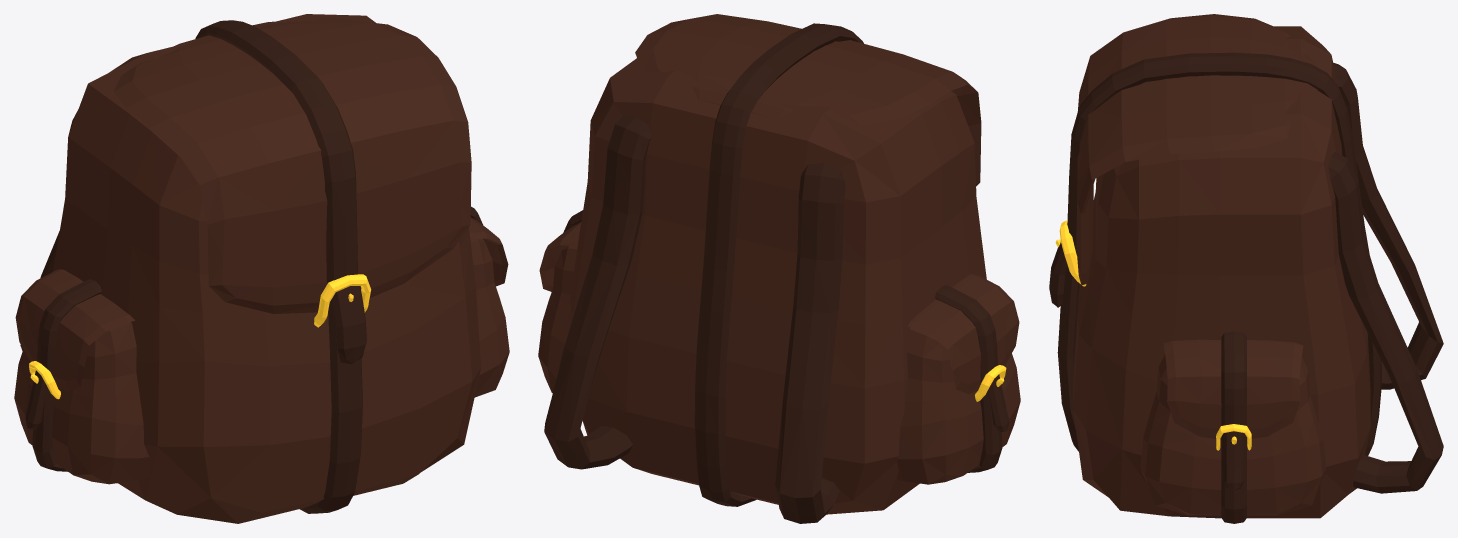
File: backpack.glb
3 views of the same model, side by side, from view 1: azimuth 30°, elevation 25°; view 2: azimuth 150°, elevation 25°; view 3: azimuth 270°, elevation 25° (orthographic). The views are drawn at different scales.
Visible parts, largest first — view 1: Backpack; view 2: Backpack; view 3: Backpack.
Part boxes in pixels (left/top/right/bottom): Backpack: left=14, top=14, right=509, bottom=523; Backpack: left=538, top=14, right=1020, bottom=523; Backpack: left=1049, top=14, right=1443, bottom=523.
Bounding box in the file's own units: 107 × 95.06 × 80.37.
